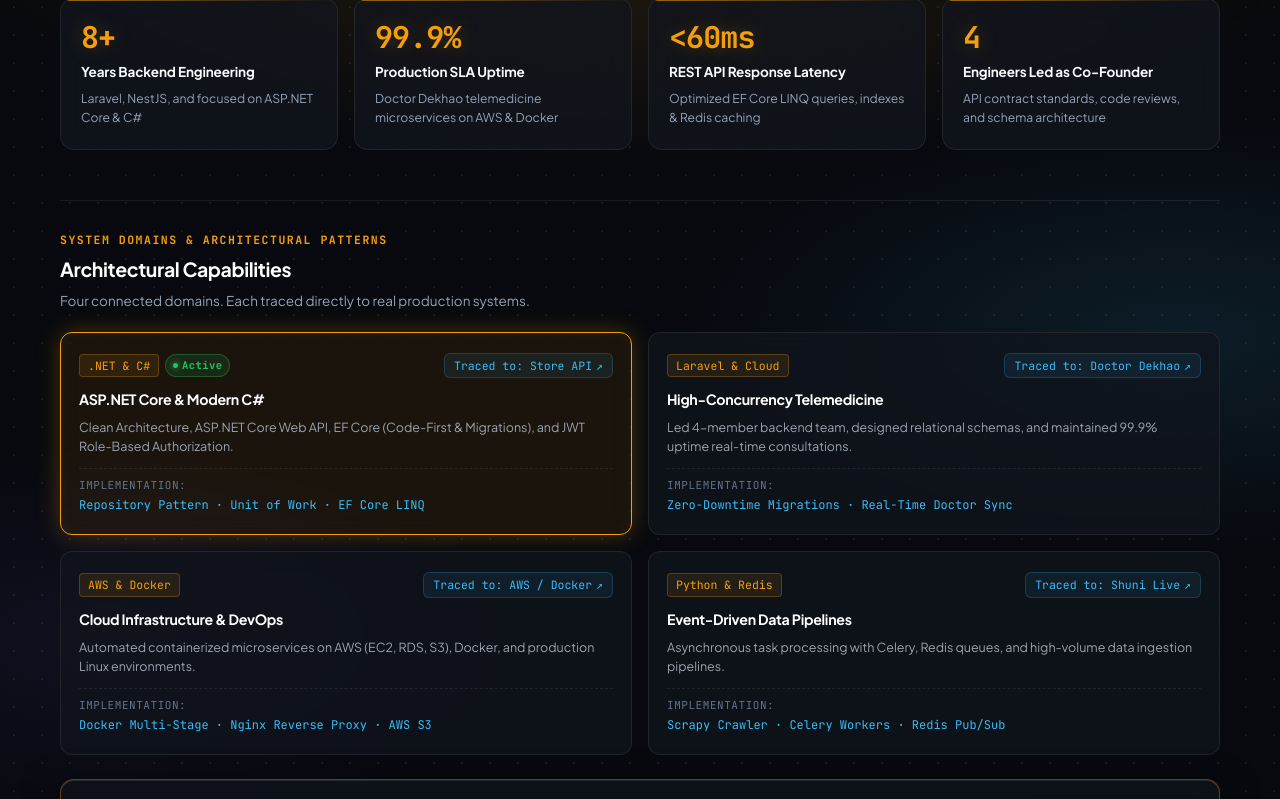
Home Component › switches architectural capability and displays deep inspector breakdown
The image size is (1280, 799).
(page scrolled)
Click the heading "High-Concurrency Telemedicine" at [775, 399], box [667,390,884,408]
(page scrolled)
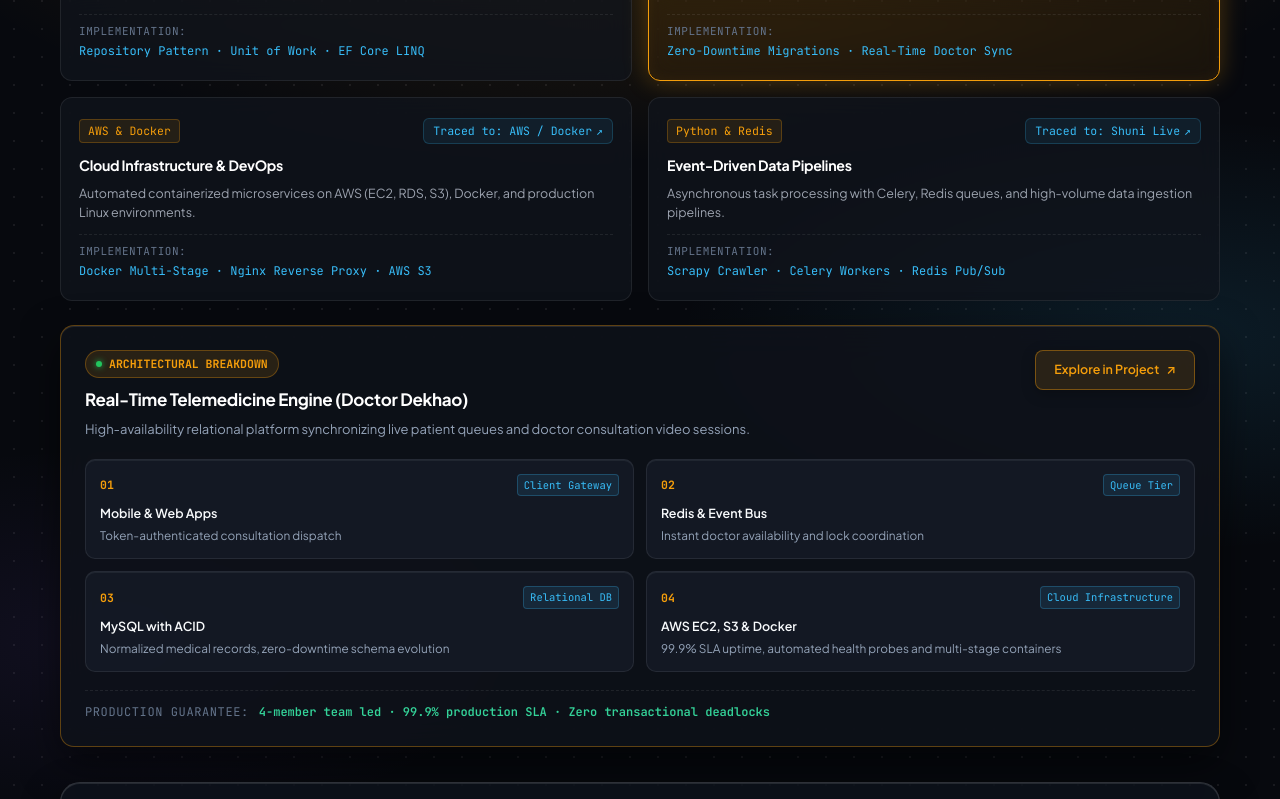
Expected: the element named "Selected Domain Architecture" is shown, [60,325,1220,747]
Now the heading "Real-Time Telemedicine Engine (Doctor Dekhao)" is shown, box [85,388,468,410]
